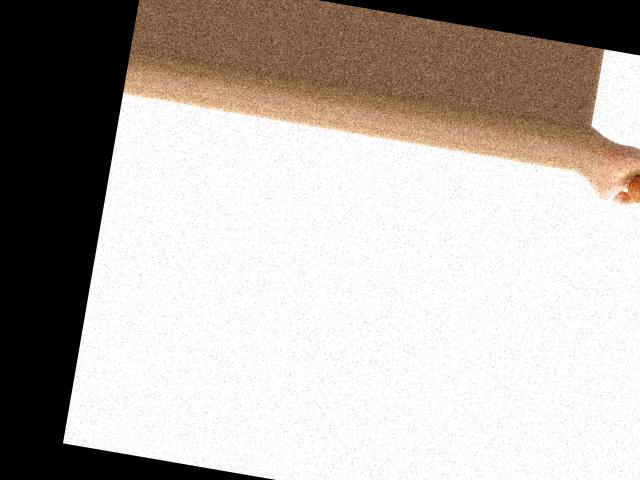egg: (625, 173, 640, 207)
